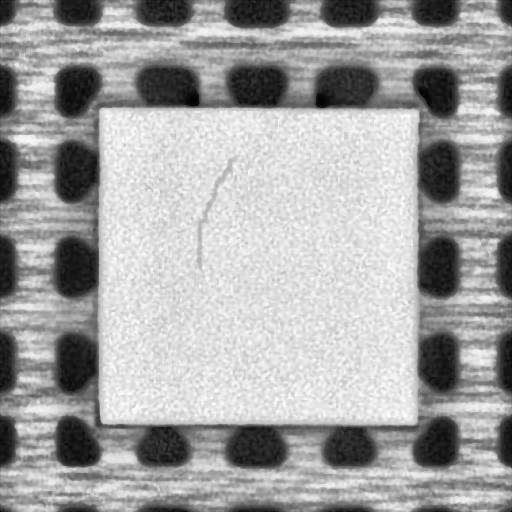DIE_CRACK: (191, 158, 232, 269)
